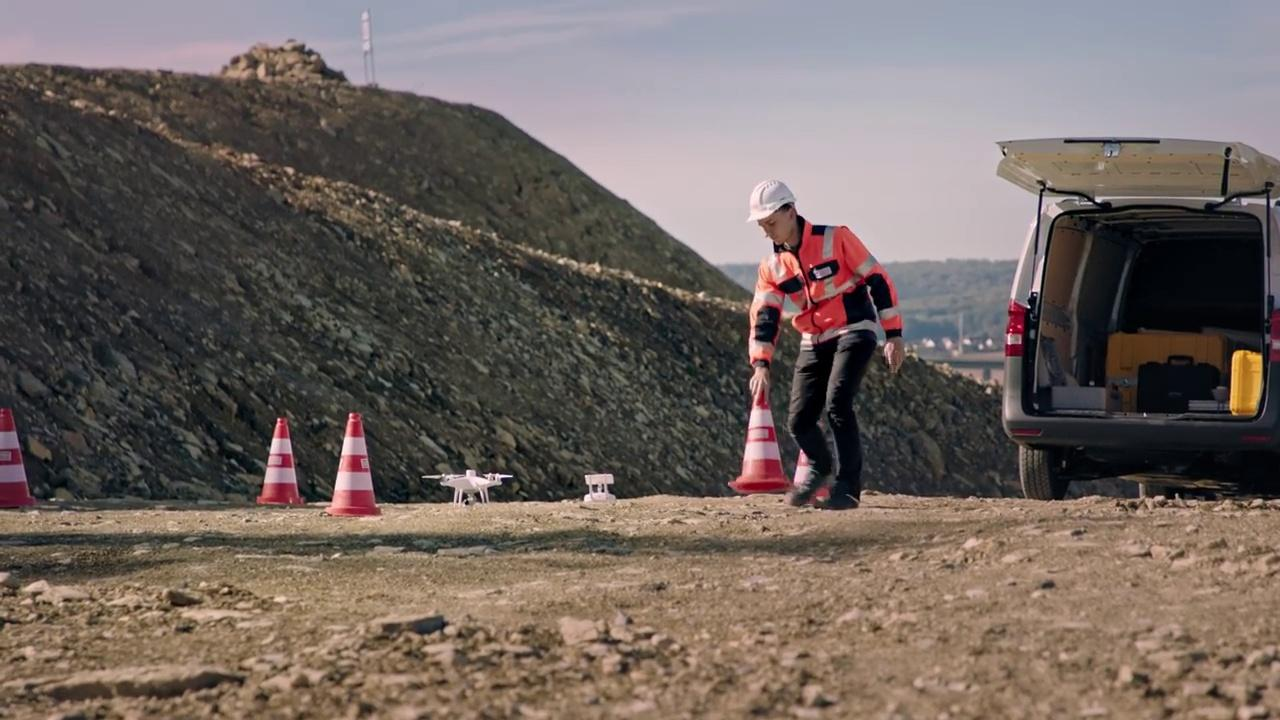drone: (419, 468, 515, 507)
